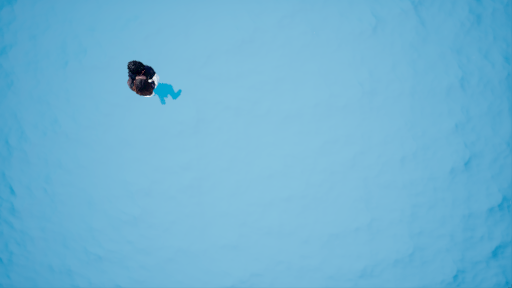person: (124, 60, 185, 107)
